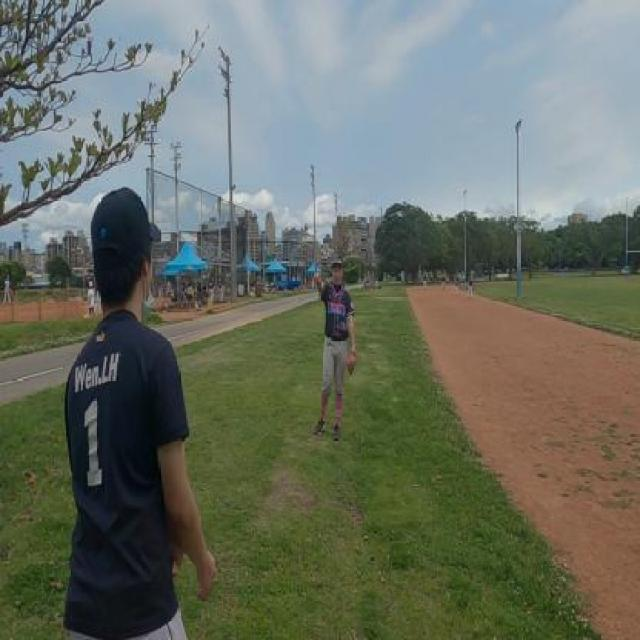baseball: (305, 222, 309, 230)
